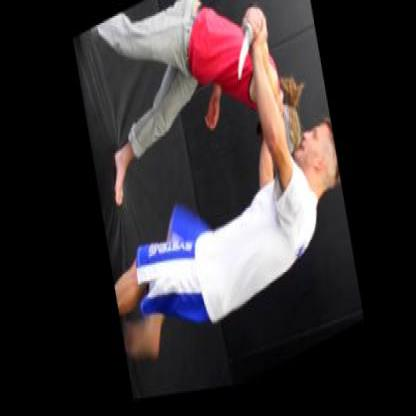knife: (222, 2, 269, 92)
